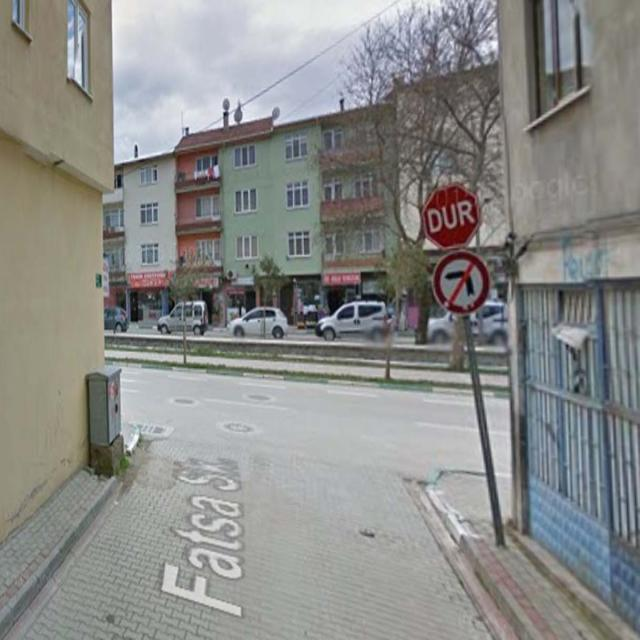dur: (421, 184, 481, 247)
soladonulmez: (431, 252, 490, 316)
